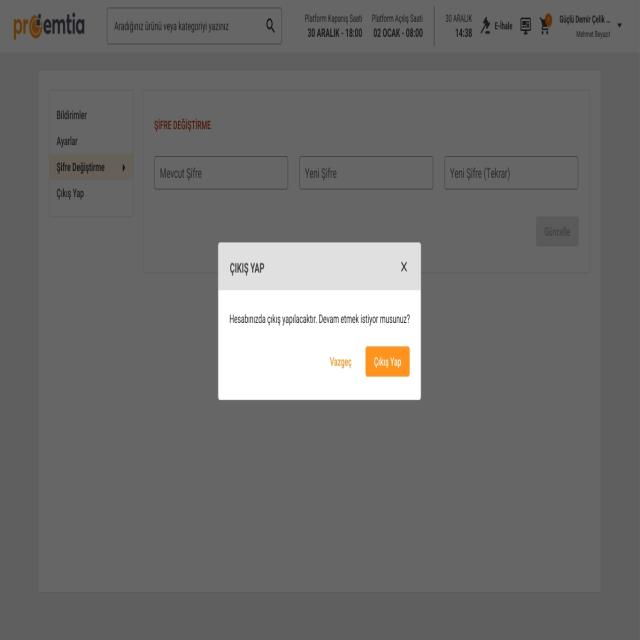QLabel: (229, 313, 411, 326), (372, 354, 404, 372), (230, 262, 264, 275), (329, 353, 353, 370)
VBtn: (364, 345, 410, 378), (325, 347, 357, 375)
VDialog: (218, 241, 421, 401)
VIcon: (400, 260, 408, 274)
